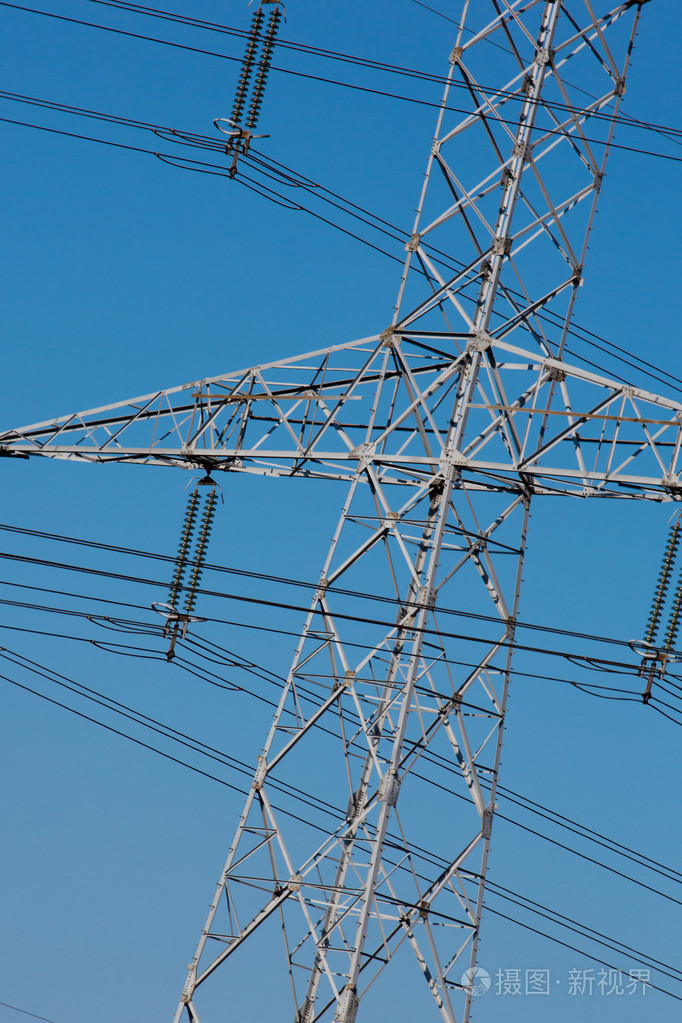insulator: (227, 10, 284, 125), (167, 488, 218, 611), (644, 516, 681, 647)
